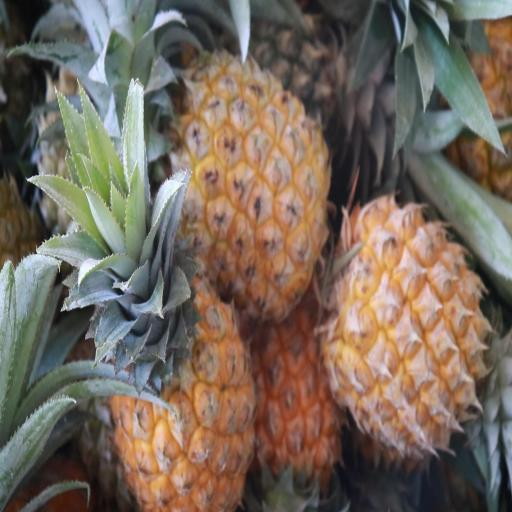Pineapple - v8 v1: (168, 47, 330, 320), (113, 198, 252, 512), (324, 198, 486, 453), (252, 295, 347, 512)
